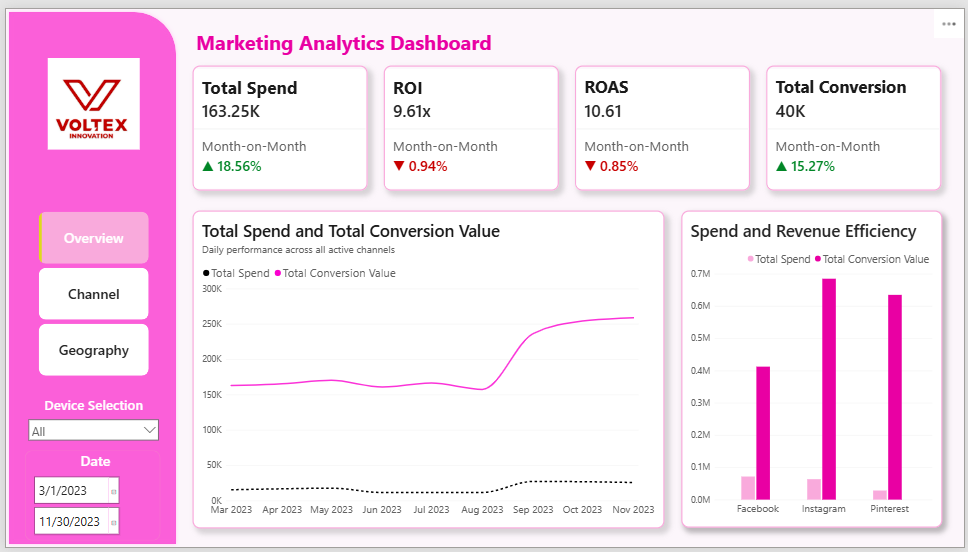

The dashboard page shown, as its layout file describes it:
{"tool":"powerbi","page":{"name":"Overview","canvas":[1920,1080],"ordinal":0},"visuals":[{"type":"shape","title":"Ads","box":[0,0,1920,1080],"z":0},{"type":"cardVisual","fields":{"Data":["_Measure.Total Spend"]},"box":[375,115,350,250],"z":0,"group":"g4"},{"type":"cardVisual","fields":{"Data":["_Measure.ROI"]},"box":[757.8,115,350,250],"z":0,"group":"g2"},{"type":"cardVisual","fields":{"Data":["_Measure.ROAS"]},"box":[1140.6,115,350,250],"z":0,"group":"g1"},{"type":"cardVisual","fields":{"Data":["_Measure.Total Conversion"]},"box":[1523.3,115,350,250],"z":0,"group":"g3"},{"type":"shape","box":[0,0,350,1080],"z":1000},{"type":"group","id":"g1","title":"Group 1","box":[1140.6,115,350,250],"z":2000},{"type":"group","id":"g2","title":"Group 1","box":[757.8,115,350,250],"z":3000},{"type":"group","id":"g3","title":"Group 1","box":[1523.3,115,350,250],"z":4000},{"type":"lineChart","title":"Total Spend and Total Conversion Value","fields":{"Category":["MktCampaign_Data.Date.Variation.Date Hierarchy.Year","MktCampaign_Data.Date.Variation.Date Hierarchy.Month"],"Y":["_Measure.Total Spend","_Measure.Total Conversion Value"]},"box":[375,405,944,636],"z":5000},{"type":"group","id":"g4","title":"Group 1","box":[375,115,350,250],"z":6000},{"type":"clusteredColumnChart","title":"Spend and Revenue Efficiency","fields":{"Category":["MktCampaign_Data.Channel"],"Y":["_Measure.Total Spend","_Measure.Total Conversion Value"]},"box":[1352,405,522,634],"z":7000},{"type":"textbox","box":[100,100,300,300],"z":8000},{"type":"shape","box":[375,20,1197.5,95],"z":9000},{"type":"pageNavigator","box":[66.7,406.7,220,330],"z":10000},{"type":"image","box":[76.7,100,200,183.3],"z":11000},{"type":"slicer","title":"Device Selection","fields":{"Values":["MktCampaign_Data.Device"]},"box":[42,774,270,100],"z":12000},{"type":"slicer","title":"Date","fields":{"Values":["MktCampaign_Data.Date"]},"box":[40,884,270,180],"z":12001}]}

Visuals, with their boxes on the page's 1920x1080 design canvas (x1, y1, x2, y2). These are canvas units, not pixel positions in the 968x552 screenshot, which may show the page scaled, cropped or inside an application window:
"Ads" shape: BBox(0, 0, 1920, 1080)
cardVisual - _Measure.Total Spend: BBox(375, 115, 725, 365)
cardVisual - _Measure.ROI: BBox(758, 115, 1108, 365)
cardVisual - _Measure.ROAS: BBox(1141, 115, 1491, 365)
cardVisual - _Measure.Total Conversion: BBox(1523, 115, 1873, 365)
shape: BBox(0, 0, 350, 1080)
"Group 1" group: BBox(1141, 115, 1491, 365)
"Group 1" group: BBox(758, 115, 1108, 365)
"Group 1" group: BBox(1523, 115, 1873, 365)
"Total Spend and Total Conversion Value" lineChart: BBox(375, 405, 1319, 1041)
"Group 1" group: BBox(375, 115, 725, 365)
"Spend and Revenue Efficiency" clusteredColumnChart: BBox(1352, 405, 1874, 1039)
textbox: BBox(100, 100, 400, 400)
shape: BBox(375, 20, 1572, 115)
pageNavigator: BBox(67, 407, 287, 737)
image: BBox(77, 100, 277, 283)
"Device Selection" slicer: BBox(42, 774, 312, 874)
"Date" slicer: BBox(40, 884, 310, 1064)
